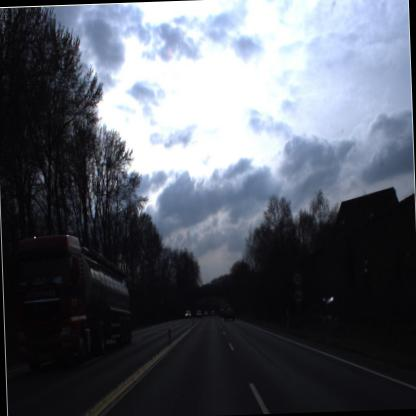prohibitory: (289, 286, 306, 310), (289, 266, 304, 288)
